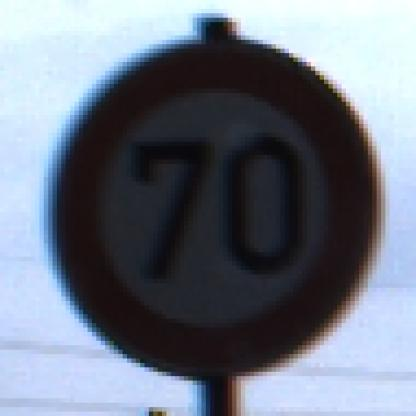Speed Limit 70: (60, 45, 365, 370)
